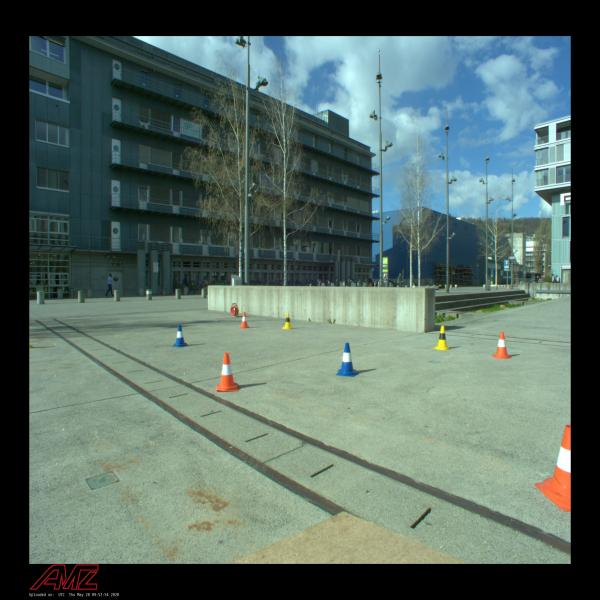blue_cone: (336, 343, 359, 377), (172, 325, 188, 348)
orange_cone: (534, 424, 570, 511), (216, 352, 239, 392), (491, 331, 512, 359), (239, 312, 250, 328)
yellow_cone: (433, 326, 451, 351), (282, 312, 294, 330)
